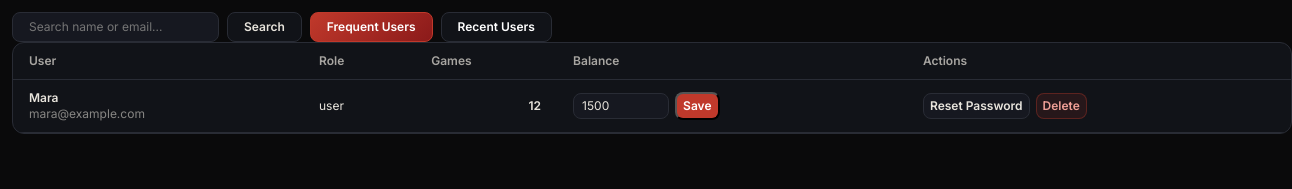
Test: AdminUserManagement › does not send a negative balance
Expected: the text "Mara" is shown, [29,90,58,105]
Replace the text in the number field with "-1" at (621, 106), box [573,93,669,119]
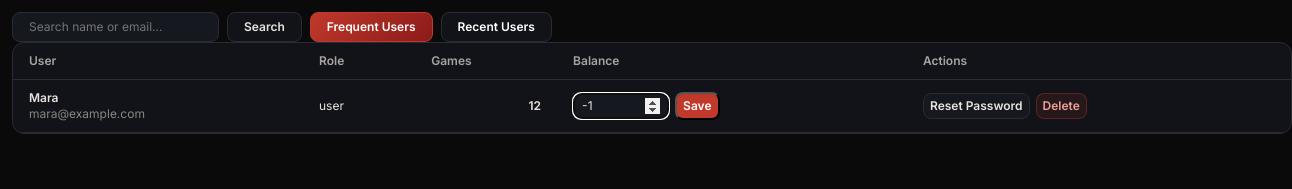
Click the button "Save".
click(697, 106)  # box [675,92,720,120]
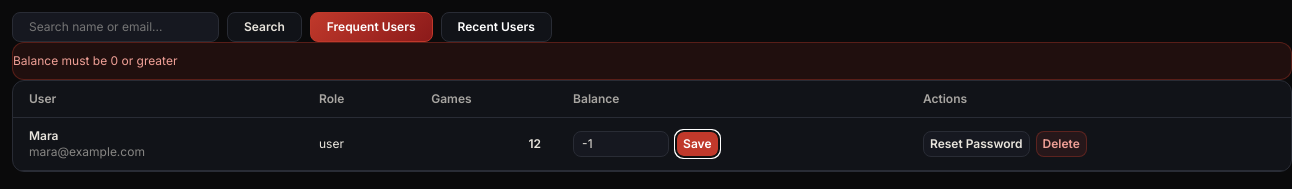
Expected: the message reads "Balance must be 0 or greater", [13,53,177,68]
